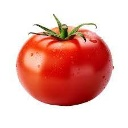tomato: (16, 22, 111, 106)
